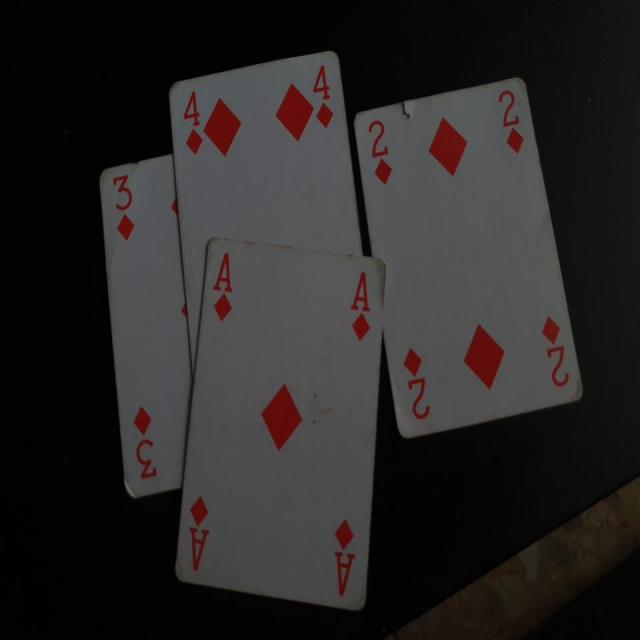2 Diamonds: (349, 77, 590, 442)
3 Diamonds: (100, 150, 193, 497)
4 Diamonds: (168, 44, 362, 350)
A Diamonds: (169, 236, 388, 617)
